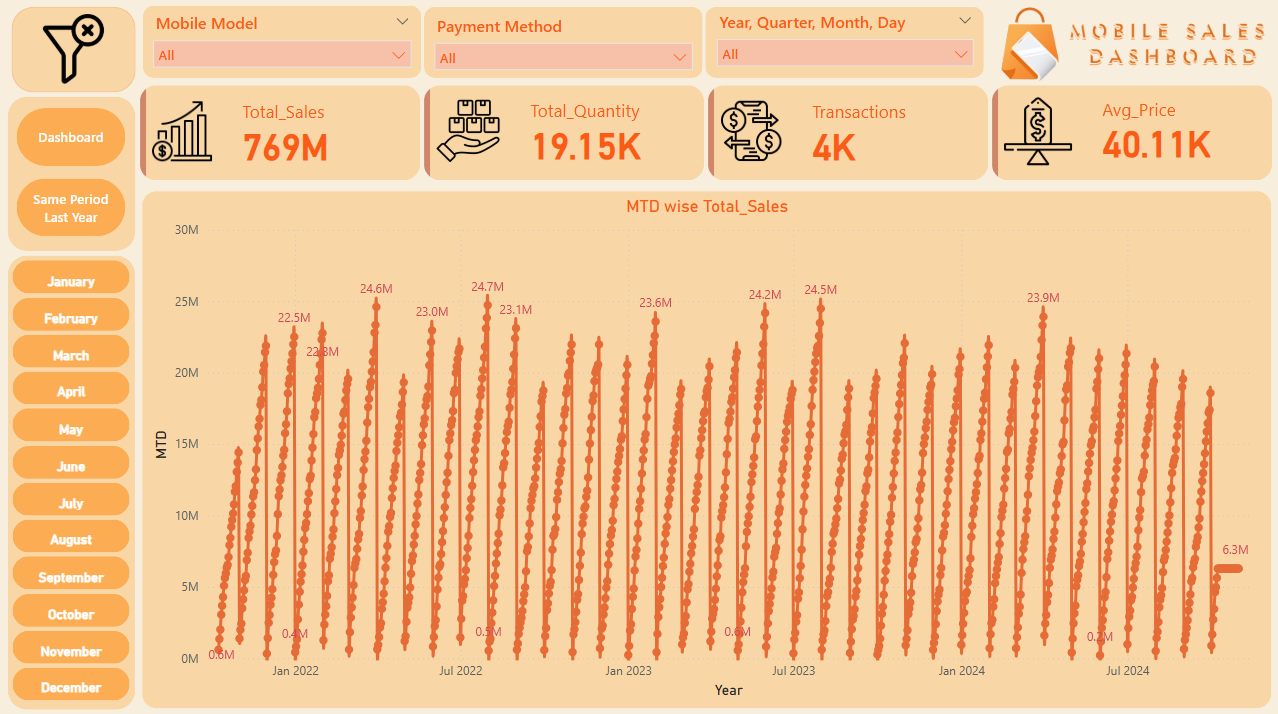

The dashboard page shown, as its layout file describes it:
{"tool":"powerbi","page":{"name":"MTD Report","canvas":[1280,720],"ordinal":1},"visuals":[{"type":"shape","box":[8.3,257.5,127.5,454.2],"z":0},{"type":"shape","box":[143.8,7.5,278.8,72.5],"z":1000},{"type":"image","box":[985,0,93.8,91.2],"z":2000},{"type":"shape","box":[8.4,98.2,127.6,154.3],"z":3000},{"type":"cardVisual","fields":{"Data":["Sales_Data.Total_Sales","Sales_Data.Total_Quantity","Sales_Data.Transactions","Sales_Data.Avg_Price"]},"box":[136.2,82.5,1143.8,105],"z":4000},{"type":"slicer","fields":{"Values":["Sales_Data.Mobile Model"]},"box":[143.8,8.8,278.8,71.2],"z":5000},{"type":"shape","box":[425,8.8,278.8,71.2],"z":6000},{"type":"shape","box":[706.2,8.8,278.8,71.2],"z":7000},{"type":"slicer","fields":{"Values":["Sales_Data.Payment Method"]},"box":[425,11.2,278.8,68.8],"z":8000},{"type":"slicer","fields":{"Values":["Custom_Calendar.Date.Variation.Date Hierarchy.Year","Custom_Calendar.Date.Variation.Date Hierarchy.Quarter","Custom_Calendar.Date.Variation.Date Hierarchy.Month","Custom_Calendar.Date.Variation.Date Hierarchy.Day"]},"box":[707.5,7.5,277.5,72.5],"z":9000},{"type":"image","box":[1065,8.8,207.5,73.8],"z":10000},{"type":"lineChart","title":"MTD wise Total_Sales","fields":{"Y":["Sales_Data.MTD"],"Category":["Custom_Calendar.Date.Variation.Date Hierarchy.Year","Custom_Calendar.Date.Variation.Date Hierarchy.Quarter","Custom_Calendar.Date.Variation.Date Hierarchy.Month","Custom_Calendar.Date.Variation.Date Hierarchy.Day"]},"box":[143,193.1,1130,518.5],"z":11000},{"type":"advancedSlicerVisual","fields":{"Values":["Custom_Calendar.Date.Variation.Date Hierarchy.Month"]},"box":[8.3,257.5,127.5,454.2],"z":12000},{"type":"pageNavigator","box":[16.9,109.8,109.8,129.1],"z":13000},{"type":"shape","box":[12.1,8.4,124.3,85.7],"z":14000},{"type":"image","box":[30.4,11.6,88.2,79.5],"z":15000}]}

Visuals, with their boxes in screenshot pixels (x1, y1, x2, y2), scaled from the page's 1280x720 canvas onto the 1278x714 screenshot:
shape: l=8, t=255, r=136, b=706
shape: l=144, t=7, r=422, b=79
image: l=983, t=0, r=1077, b=90
shape: l=8, t=97, r=136, b=250
cardVisual - Sales_Data.Total_Sales x Sales_Data.Total_Quantity: l=136, t=82, r=1277, b=186
slicer - Sales_Data.Mobile Model: l=144, t=9, r=422, b=79
shape: l=424, t=9, r=703, b=79
shape: l=705, t=9, r=983, b=79
slicer - Sales_Data.Payment Method: l=424, t=11, r=703, b=79
slicer - Custom_Calendar.Date.Variation.Date Hierarchy.Year x Custom_Calendar.Date.Variation.Date Hierarchy.Quarter: l=706, t=7, r=983, b=79
image: l=1063, t=9, r=1271, b=82
"MTD wise Total_Sales" lineChart: l=143, t=191, r=1271, b=706
advancedSlicerVisual - Custom_Calendar.Date.Variation.Date Hierarchy.Month: l=8, t=255, r=136, b=706
pageNavigator: l=17, t=109, r=127, b=237
shape: l=12, t=8, r=136, b=93
image: l=30, t=12, r=118, b=90
